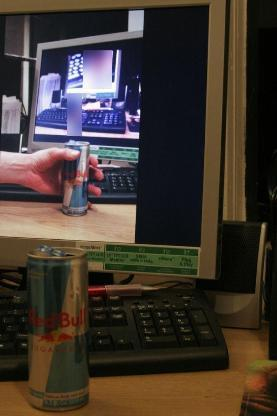Can: (24, 247, 92, 413), (62, 141, 91, 217)
